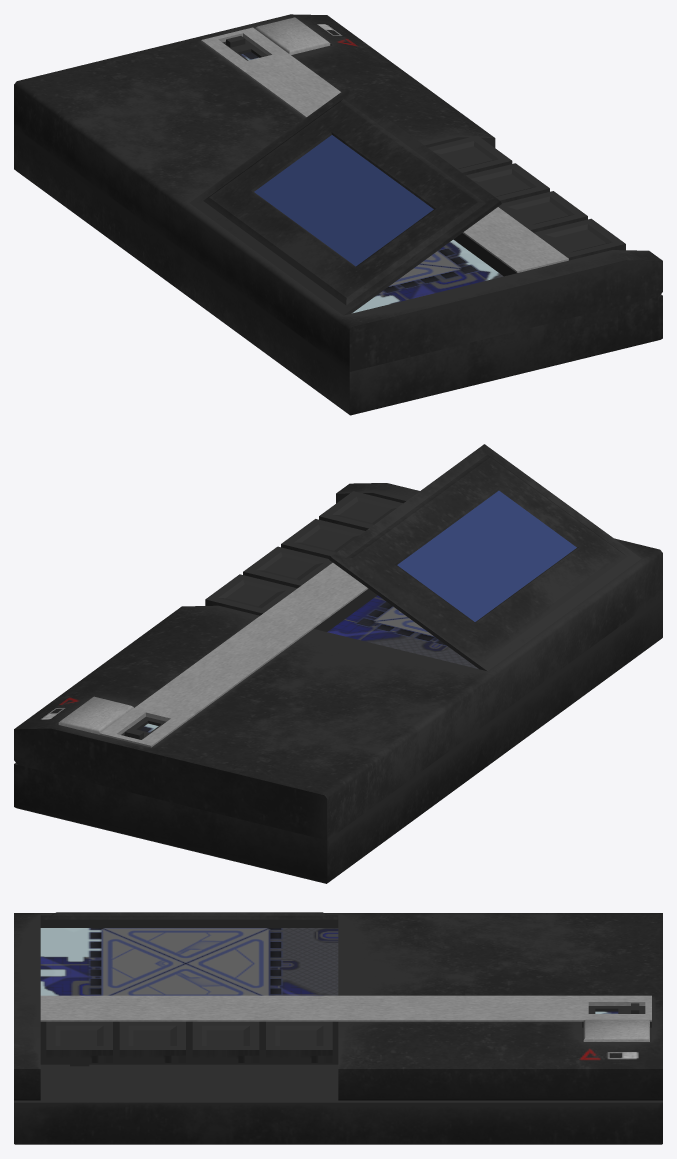
The model's file is CassettePlayer (2).fbx.
3 renders of one model, top to bottom at view 1: azimuth 30°, elevation 25°; view 2: azimuth 150°, elevation 25°; view 3: azimuth 270°, elevation 25°, orthographic. The views are drawn at different scales.
Visible parts, largest first — view 1: CassetTape; view 2: CassetTape; view 3: CassetTape.
Part boxes in pixels (x1=…): CassetTape: x1=14, y1=14, x2=662, y2=415; CassetTape: x1=14, y1=444, x2=662, y2=883; CassetTape: x1=14, y1=912, x2=662, y2=1144.
Bounding box in the file's own units: 12.28 × 6.19 × 22.79.
Materials: 5 (5 with a texture image).
